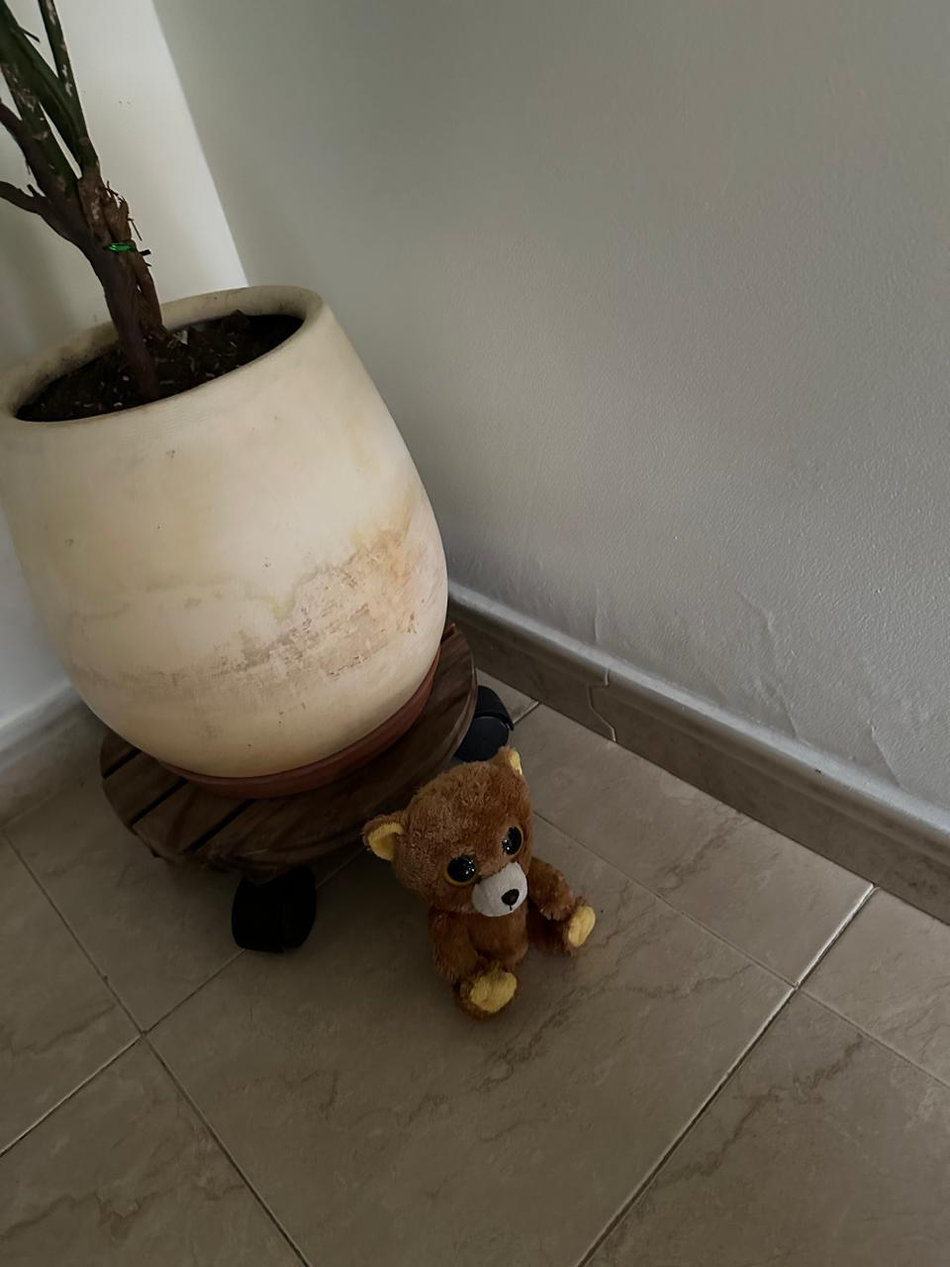peluche_sebastian: (364, 747, 604, 1020)
